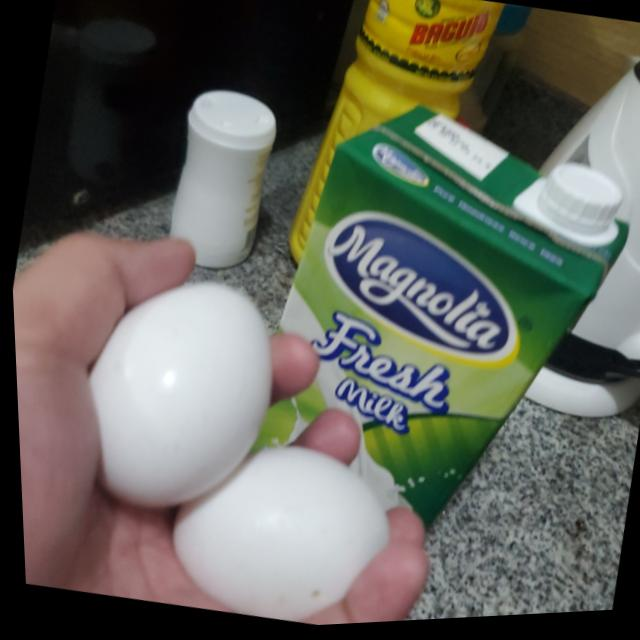egg: (64, 265, 290, 530), (154, 428, 407, 634)
milk: (227, 79, 640, 569)
